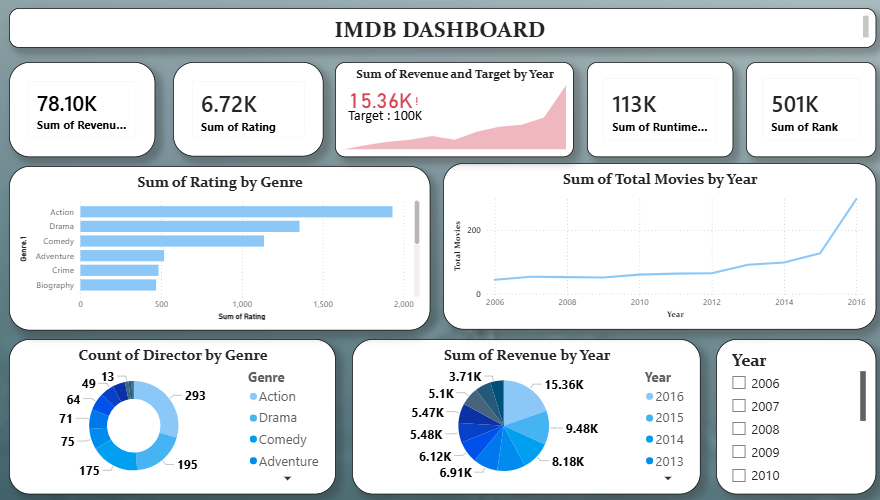

Layout of this report page (visuals, bound fields, positions):
{"tool":"powerbi","page":{"name":"Page 1","canvas":[1280,720],"ordinal":0},"visuals":[{"type":"cardVisual","fields":{"Data":["Sum(IMDB-Movie-Data.Revenue (Millions))"]},"box":[26.8,93,209.2,135.9],"z":0},{"type":"cardVisual","fields":{"Data":["Sum(IMDB-Movie-Data.Runtime (Minutes))"]},"box":[852.7,93,209.2,135.9],"z":1000},{"type":"cardVisual","fields":{"Data":["Sum(IMDB-Movie-Data.Rating)"]},"box":[261.7,93.3,215,135],"z":2000},{"type":"cardVisual","fields":{"Data":["Sum(IMDB-Movie-Data.Rank)"]},"box":[1079.8,93,185.9,135.9],"z":3000},{"type":"textbox","box":[26.8,16.1,1238.9,57.2],"z":4000},{"type":"slicer","fields":{"Values":["IMDB-Movie-Data.Year"]},"box":[1036.9,488,228.8,221.7],"z":5000},{"type":"pieChart","title":"Sum of Revenue by Year","fields":{"Category":["IMDB-Movie-Data.Year"],"Y":["Sum(IMDB-Movie-Data.Revenue (Millions))"]},"box":[516.7,488.3,498.3,221.7],"z":6000},{"type":"lineChart","title":"Sum of Total Movies by Year","fields":{"Category":["IMDB-Movie-Data.Year"],"Y":["CountNonNull(IMDB-Movie-Data.Title)"]},"box":[647.2,237.8,618.5,237.8],"z":7000},{"type":"donutChart","title":"Count of Director by Genre","fields":{"Category":["IMDB-Movie-Data.Genre.1","IMDB-Movie-Data.Genre.2","IMDB-Movie-Data.Genre.3"],"Y":["CountNonNull(IMDB-Movie-Data.Director)"]},"box":[26.8,488,466.6,221.7],"z":8000},{"type":"clusteredBarChart","title":"Sum of Rating by Genre","fields":{"Category":["IMDB-Movie-Data.Genre.1"],"Y":["Sum(IMDB-Movie-Data.Rating)"]},"box":[26.7,241.7,601.7,235],"z":9000},{"type":"kpi","title":"Sum of Revenue and Target by Year","fields":{"Goal":["IMDB-Movie-Data.Target"],"Indicator":["Sum(IMDB-Movie-Data.Revenue (Millions))"],"TrendLine":["IMDB-Movie-Data.Year"]},"box":[493.4,93,341.5,135.9],"z":10000}]}

Visuals, with their boxes in screenshot pixels (x1, y1, x2, y2), scaled from the page's 1280x720 canvas onto the 880x500 screenshot:
cardVisual - Sum(IMDB-Movie-Data.Revenue (Millions)): select_region(18, 65, 162, 159)
cardVisual - Sum(IMDB-Movie-Data.Runtime (Minutes)): select_region(586, 65, 730, 159)
cardVisual - Sum(IMDB-Movie-Data.Rating): select_region(180, 65, 328, 159)
cardVisual - Sum(IMDB-Movie-Data.Rank): select_region(742, 65, 870, 159)
textbox: select_region(18, 11, 870, 51)
slicer - IMDB-Movie-Data.Year: select_region(713, 339, 870, 493)
"Sum of Revenue by Year" pieChart: select_region(355, 339, 698, 493)
"Sum of Total Movies by Year" lineChart: select_region(445, 165, 870, 330)
"Count of Director by Genre" donutChart: select_region(18, 339, 339, 493)
"Sum of Rating by Genre" clusteredBarChart: select_region(18, 168, 432, 331)
"Sum of Revenue and Target by Year" kpi: select_region(339, 65, 574, 159)
